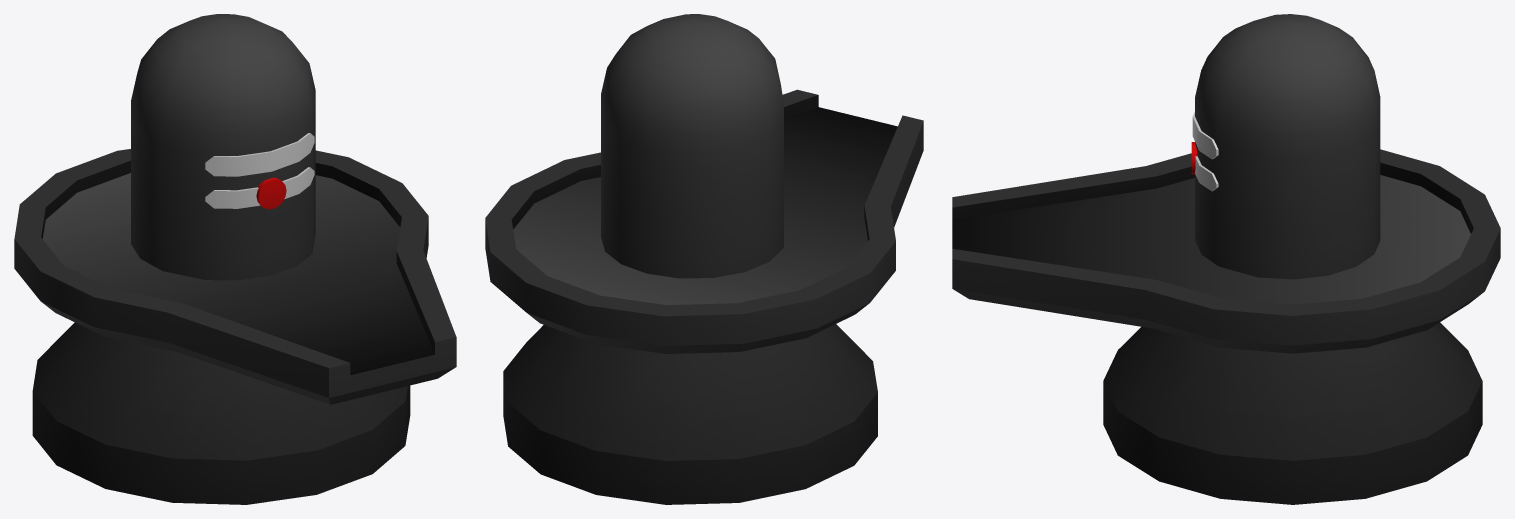
Rendered from Stylized_Low_Poly_Shiva_Linga.glb.
The picture shows the model from 3 angles, left to right: view 1: azimuth 30°, elevation 25°; view 2: azimuth 150°, elevation 25°; view 3: azimuth 270°, elevation 25°; orthographic projection.
Parts seen in each view (by area): view 1: ShivaLInga _Shivling_0; view 2: ShivaLInga _Shivling_0; view 3: ShivaLInga _Shivling_0.
Part boxes in pixels (left/top/right/bottom): ShivaLInga _Shivling_0: left=14, top=14, right=456, bottom=504; ShivaLInga _Shivling_0: left=485, top=14, right=923, bottom=504; ShivaLInga _Shivling_0: left=952, top=14, right=1500, bottom=504.
Size of the model in its own units: 0.6626 by 0.6994 by 0.8745.
1 material, 1 textured.
